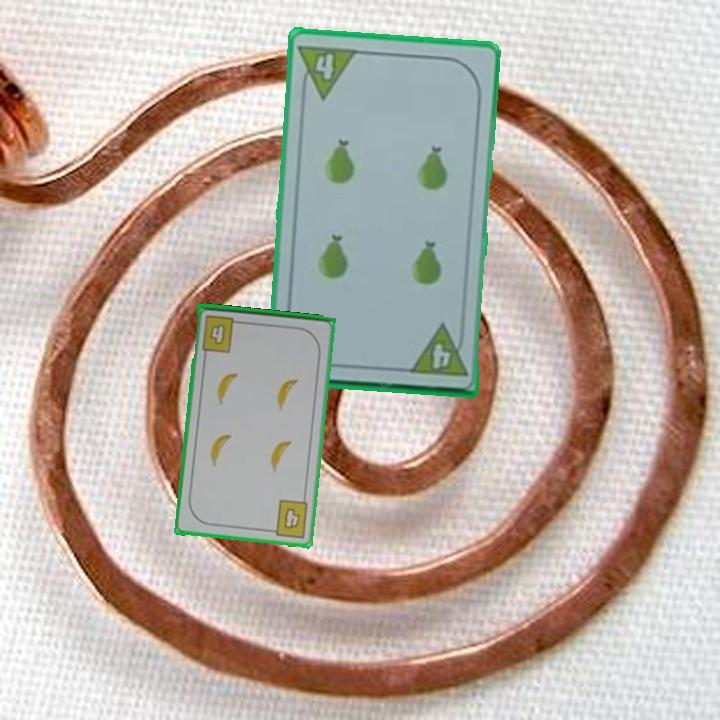4b: (265, 496, 311, 541), (199, 311, 245, 355)
4p: (295, 41, 360, 102), (405, 321, 470, 379)
